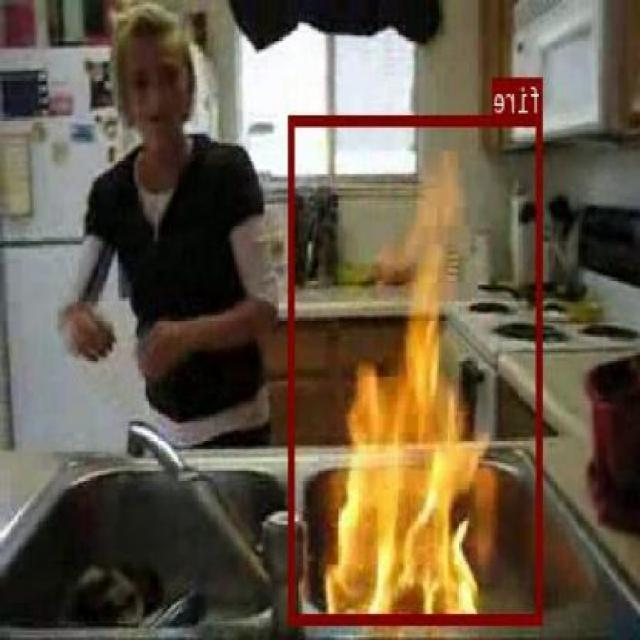Fire: (290, 114, 544, 623)
